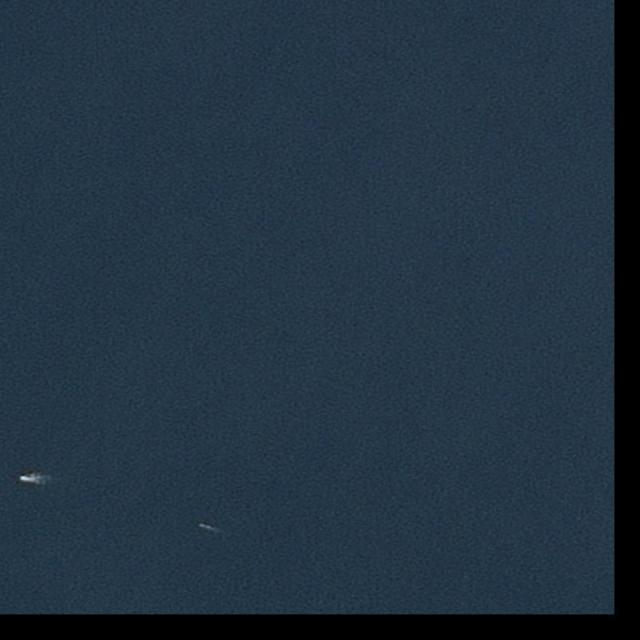ship: (18, 474, 39, 485), (198, 523, 206, 529)
